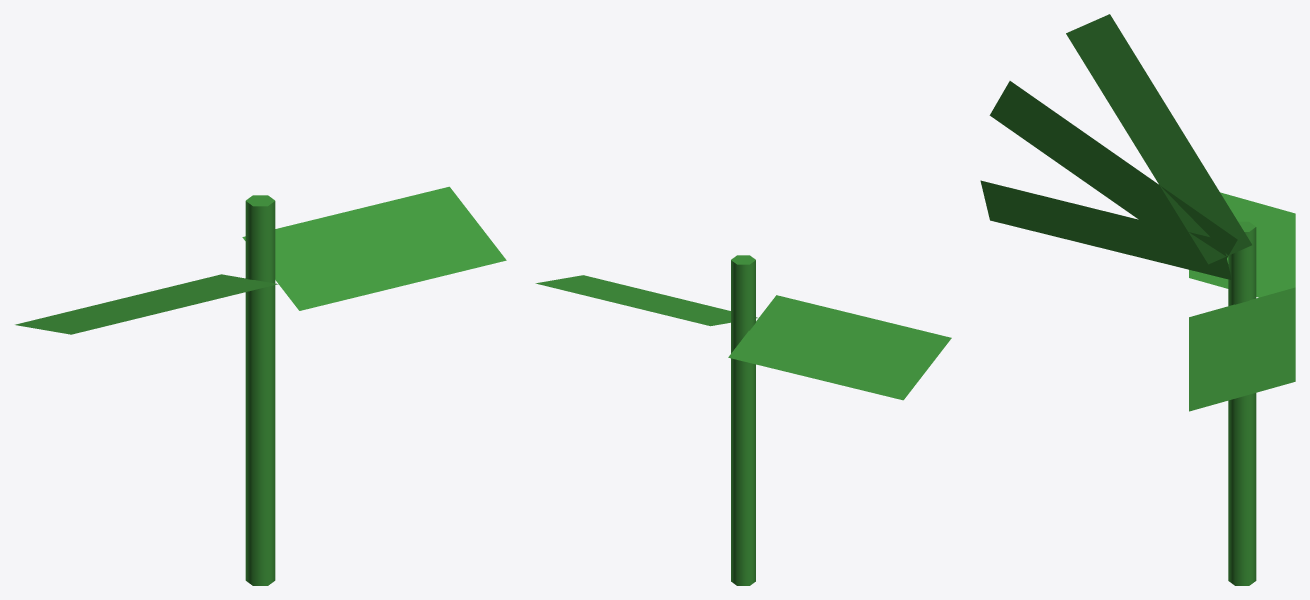
The model's file is plant-stage--seedling.glb.
3 renders of one model, left to right at view 1: azimuth 30°, elevation 25°; view 2: azimuth 150°, elevation 25°; view 3: azimuth 270°, elevation 25°, orthographic. The views are drawn at different scales.
Visible parts, largest first — view 1: plant_leaves, plant_stem; view 2: plant_leaves, plant_stem; view 3: plant_leaves, plant_stem.
Part boxes in pixels (x1,y1,x2,y2): plant_leaves: (15,186,506,334); plant_stem: (245,195,275,585); plant_leaves: (535,275,951,400); plant_stem: (731,255,755,585); plant_leaves: (980,14,1295,411); plant_stem: (1228,221,1256,585).
Bounding box in the file's own units: 0.084 × 0.1134 × 0.0565.
